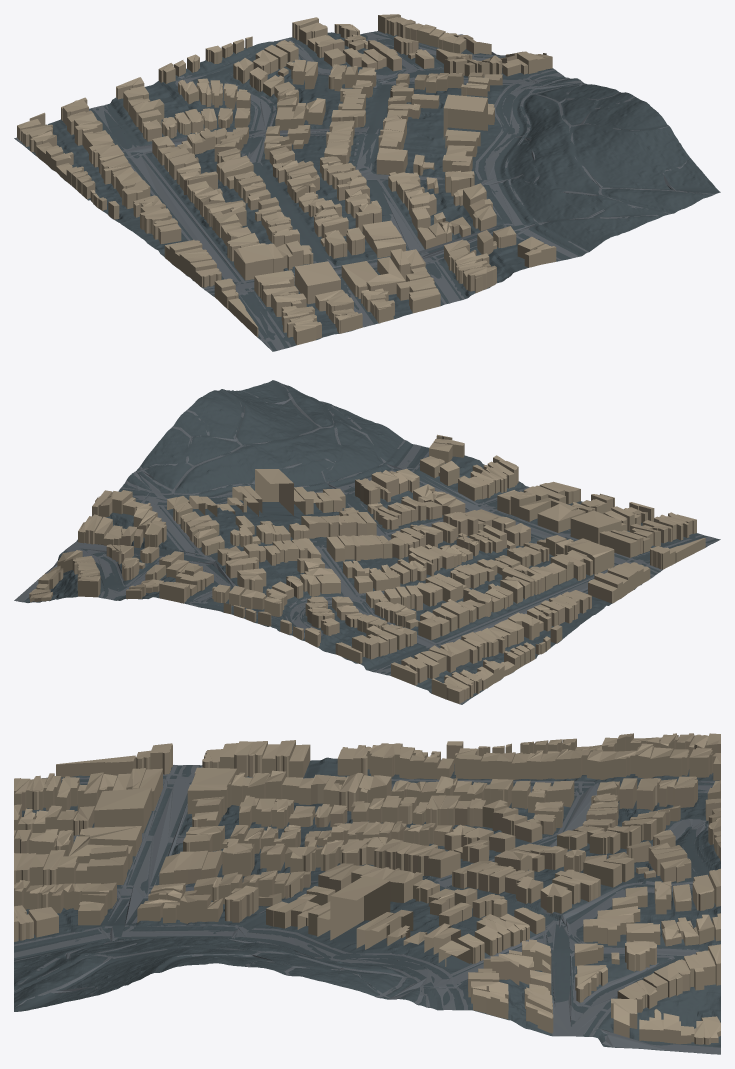
Rendered from epsg26910-1429-10885.lod0.glb.
3 renders of one model, top to bottom at view 1: azimuth 30°, elevation 25°; view 2: azimuth 150°, elevation 25°; view 3: azimuth 270°, elevation 25°, orthographic. The views are drawn at different scales.
Parts seen in each view (by area): view 1: epsg26910-1429-10885-lod0; view 2: epsg26910-1429-10885-lod0; view 3: epsg26910-1429-10885-lod0.
Part boxes in pixels (<box>): epsg26910-1429-10885-lod0: <box>14,14,720,351</box>; epsg26910-1429-10885-lod0: <box>14,380,720,704</box>; epsg26910-1429-10885-lod0: <box>14,733,720,1054</box>.
Size of the model in its own units: 384 by 70.29 by 384.
